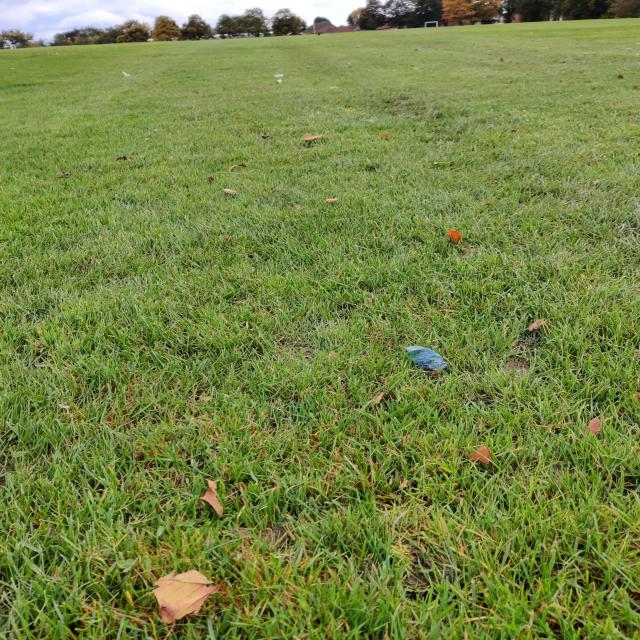litter: (393, 339, 456, 382)
